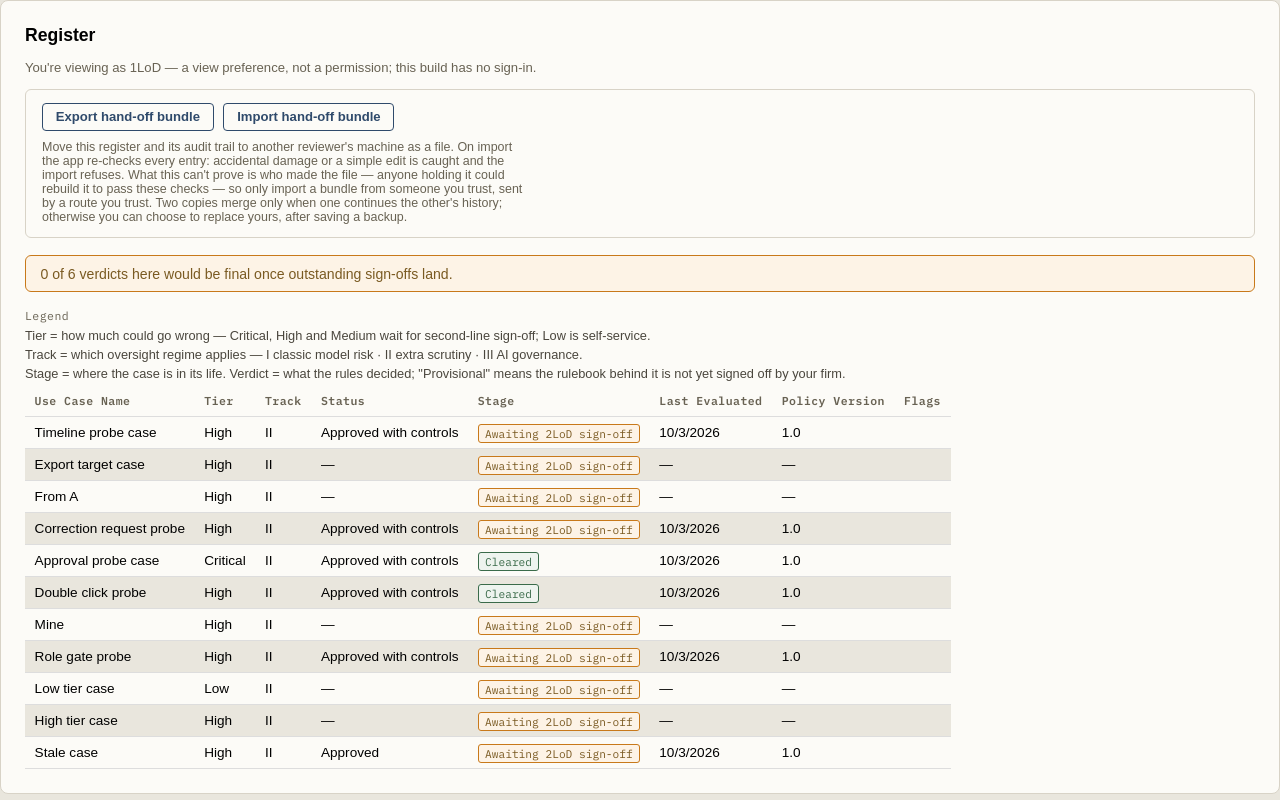
Test: RegisterDetail (V1.2-A) › B6/BC-V12A-03: 1LoD sees the scope explainer in the list and NO action bar in the detail view
The image size is (1280, 800).
Expected: the text "viewing as 1LoD" is shown, [25, 60, 536, 75]
Click the button "Role gate probe" at (83, 657), box [35, 649, 131, 664]
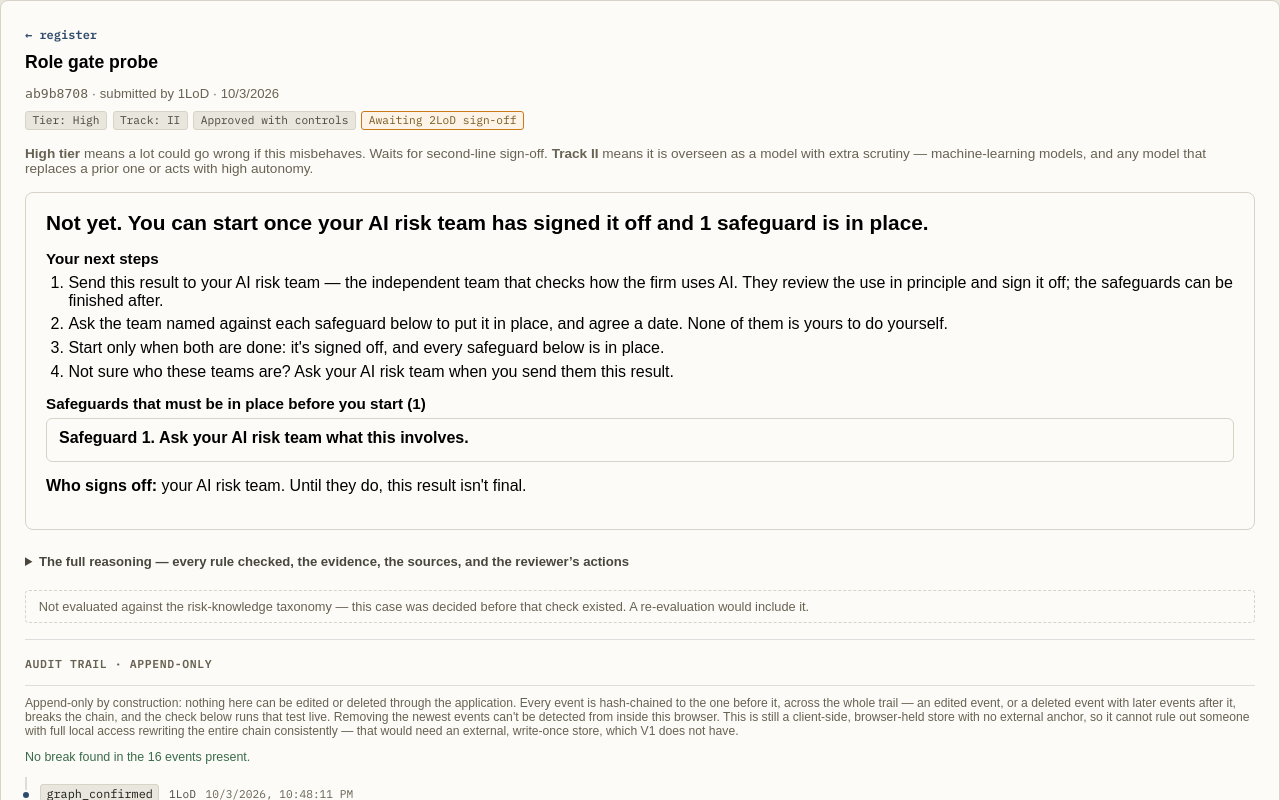
Expected: the heading "Audit trail · append-only" is shown, [25, 639, 1255, 671]
